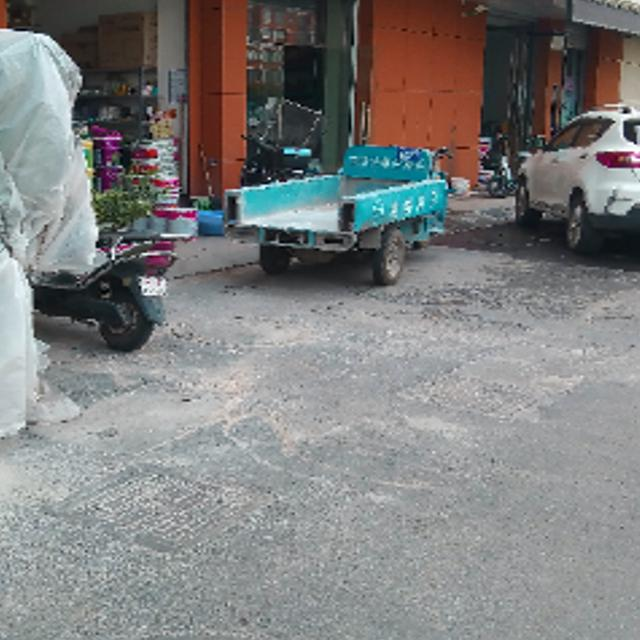broke: (0, 635, 417, 640)
